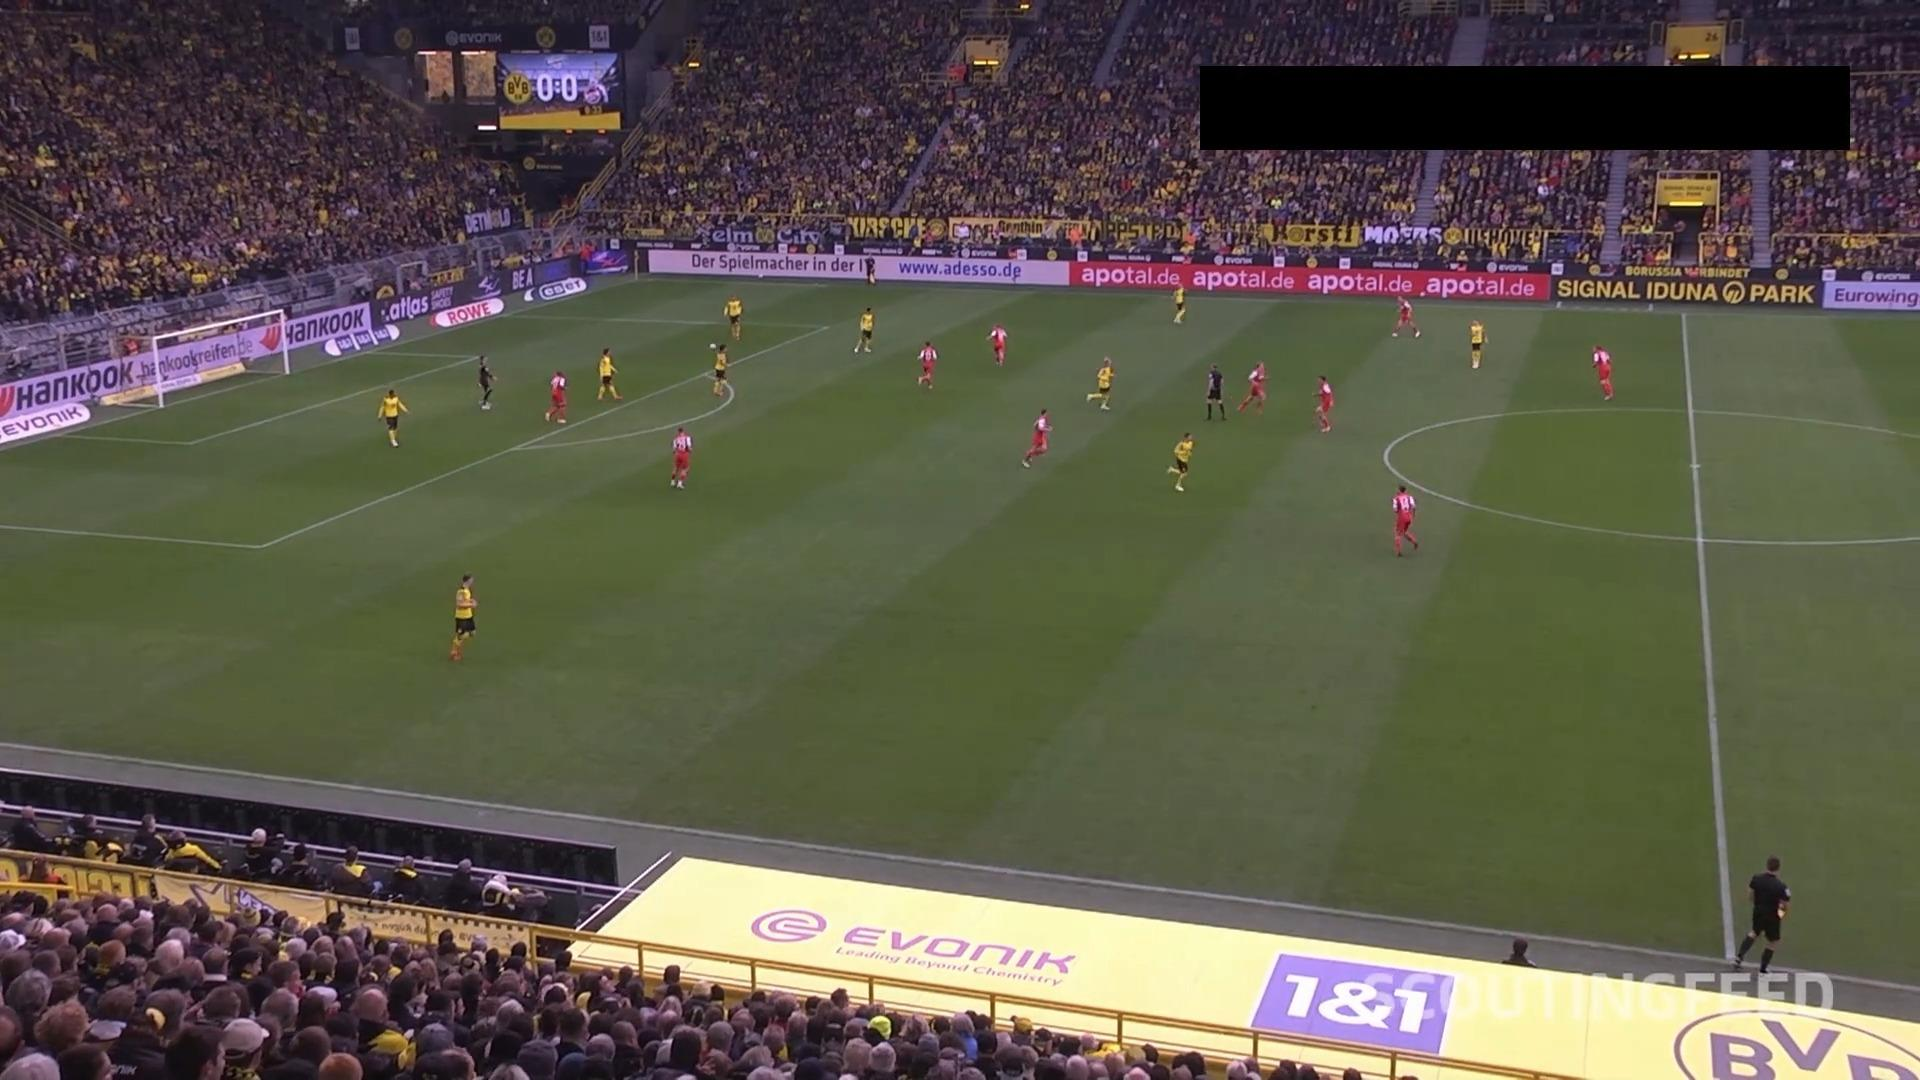player: (448, 572, 478, 661), (1390, 483, 1418, 556), (376, 387, 408, 447), (1021, 407, 1051, 468), (1236, 360, 1269, 413), (1166, 431, 1194, 491), (1086, 355, 1114, 411), (668, 425, 692, 488), (595, 346, 620, 401), (1590, 343, 1613, 400), (544, 369, 568, 423), (1390, 295, 1420, 338), (475, 354, 497, 410), (1312, 374, 1333, 432), (709, 341, 730, 396), (851, 305, 874, 354), (916, 339, 937, 389), (1468, 318, 1487, 368), (723, 293, 743, 339), (986, 323, 1007, 365), (1170, 282, 1186, 324)
referee: (1731, 854, 1790, 973), (1203, 362, 1226, 420), (863, 254, 876, 285)
